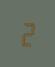two: (19, 20, 34, 46)
